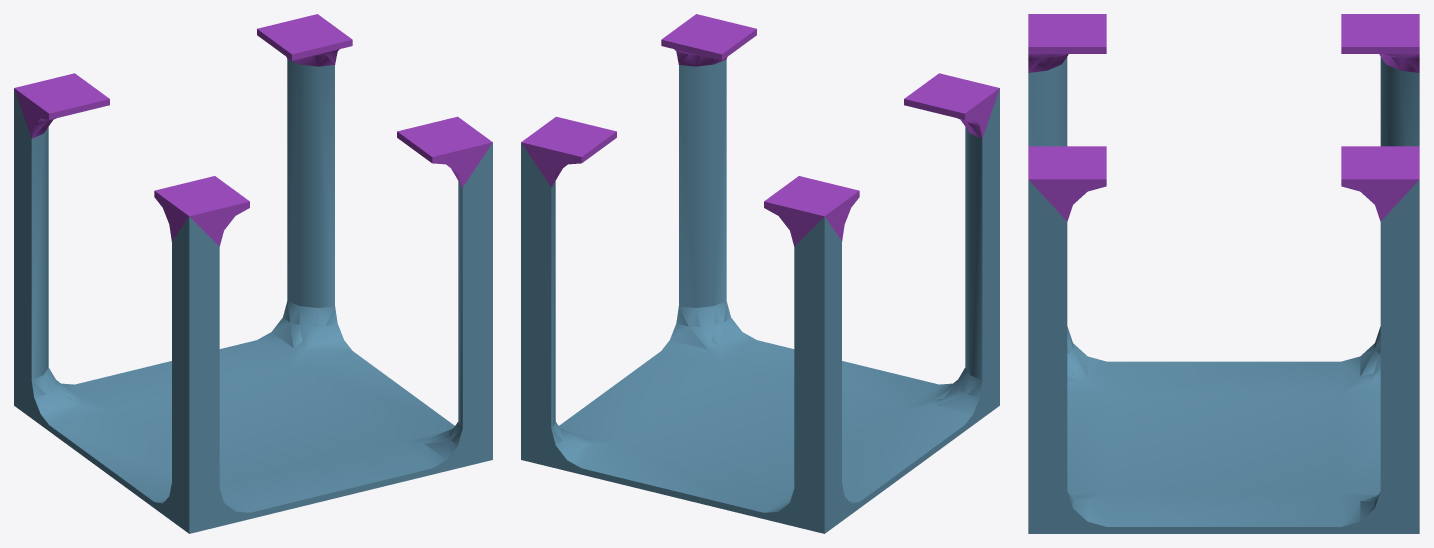
File: Tileset_85.fbx
3 renders of one model, left to right at view 1: azimuth 30°, elevation 25°; view 2: azimuth 150°, elevation 25°; view 3: azimuth 270°, elevation 25°, orthographic. The views are drawn at different scales.
Parts seen in each view (by area): view 1: Tileset_85; view 2: Tileset_85; view 3: Tileset_85.
Boxes of the visible parts, x1,y1,x2,y2 form: Tileset_85: (14, 14, 492, 533); Tileset_85: (521, 14, 999, 533); Tileset_85: (1028, 14, 1419, 533).
Size of the model in its own units: 100 by 100 by 100.
